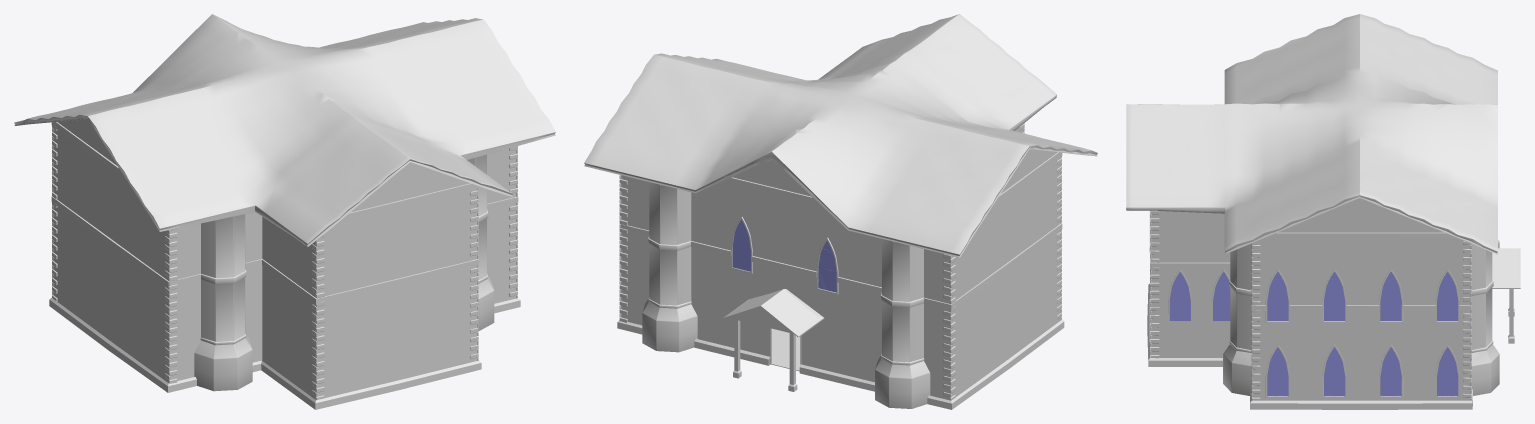
The model's file is Tavern.fbx.
The picture shows the model from 3 angles, left to right: view 1: azimuth 30°, elevation 25°; view 2: azimuth 150°, elevation 25°; view 3: azimuth 270°, elevation 25°; orthographic projection. The views are drawn at different scales.
Parts seen in each view (by area): view 1: Tavern; view 2: Tavern; view 3: Tavern.
Part boxes in pixels (bbox=[...]): Tavern: bbox=[14, 14, 555, 409]; Tavern: bbox=[584, 14, 1097, 409]; Tavern: bbox=[1126, 14, 1520, 409].
Bounding box in the file's own units: 1896 × 1099 × 1743.
